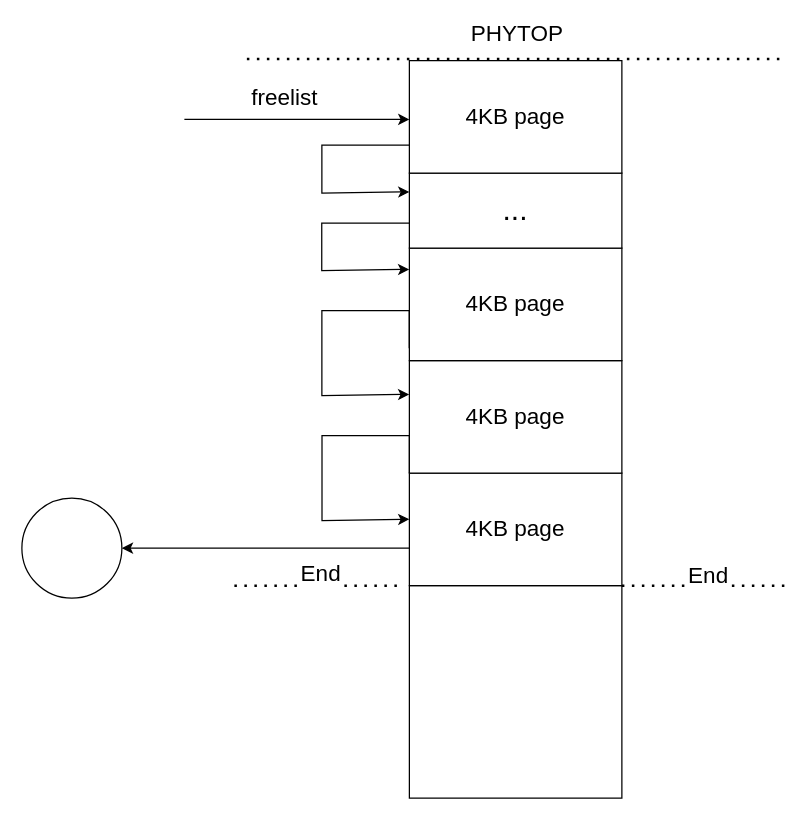
Some shapes in this 809 by 821 pixel diagram are drawn without their labels. Each missing label, with the box of its shape:
Kernel memory: (408, 584, 622, 798)
NULL: (21, 497, 122, 598)
